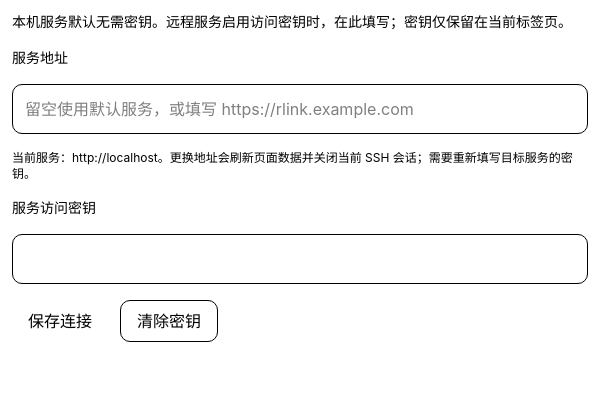
Test: rejects an unsafe service address http://remote.example.test before changing active requests
Type "http://remote.example.test" into the field labelled "服务地址" at (300, 109), box [12, 84, 588, 134]
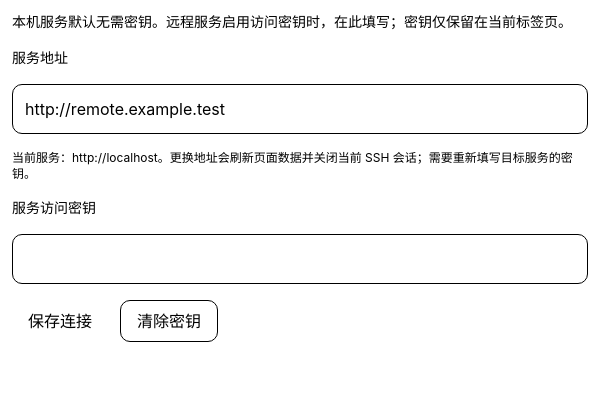
Click the button "保存连接" at (60, 321), box [12, 300, 108, 342]
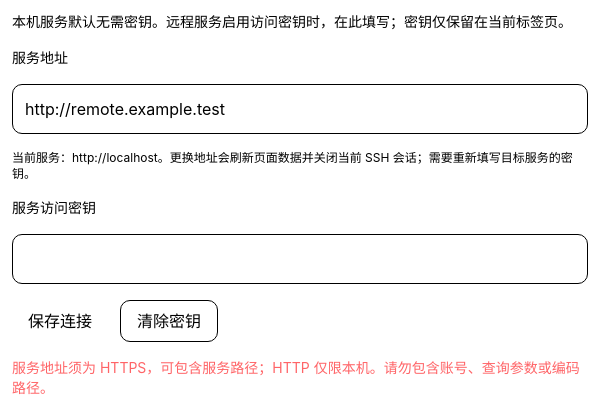
Result: the message "服务地址须为 HTTPS，可包含服务路径；HTTP 仅限本机。请勿包含账号、查询参数或编码路径。" is shown at [12, 358, 588, 398]
